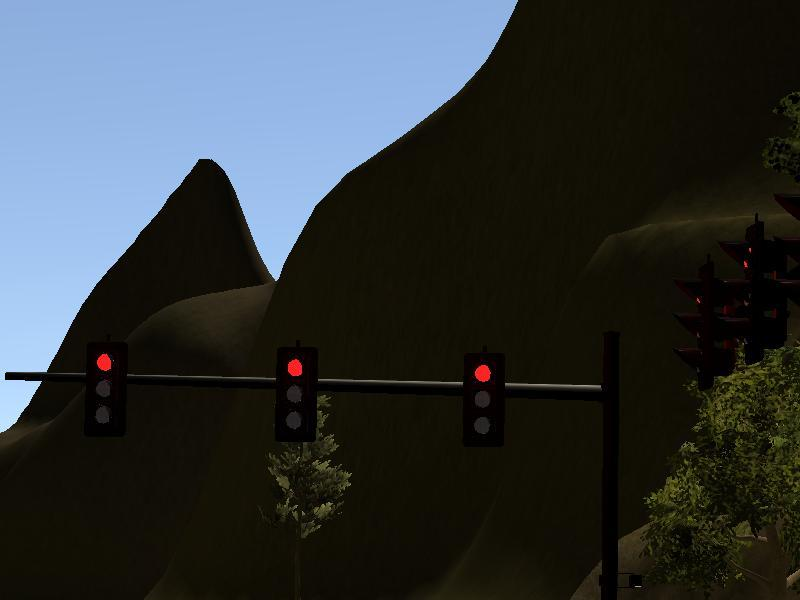Red: (281, 348, 319, 441), (468, 353, 504, 441), (88, 349, 123, 436)
